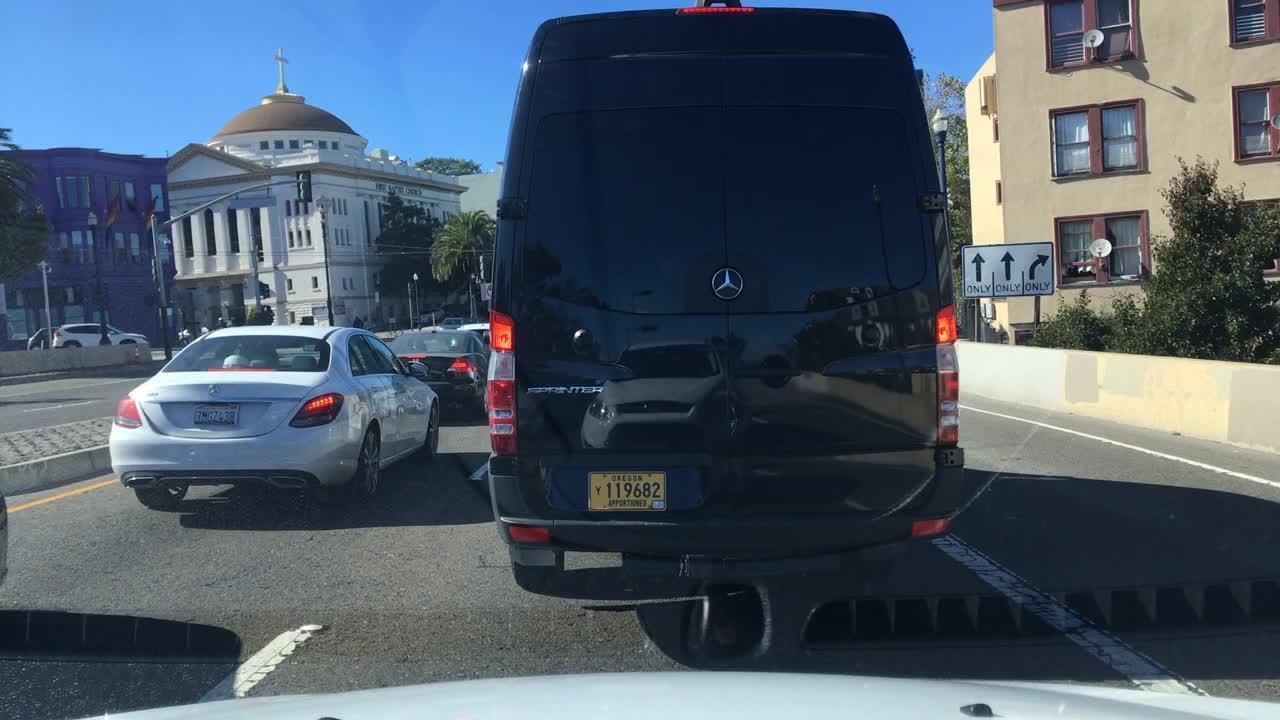Mercedes: (702, 258, 749, 308)
